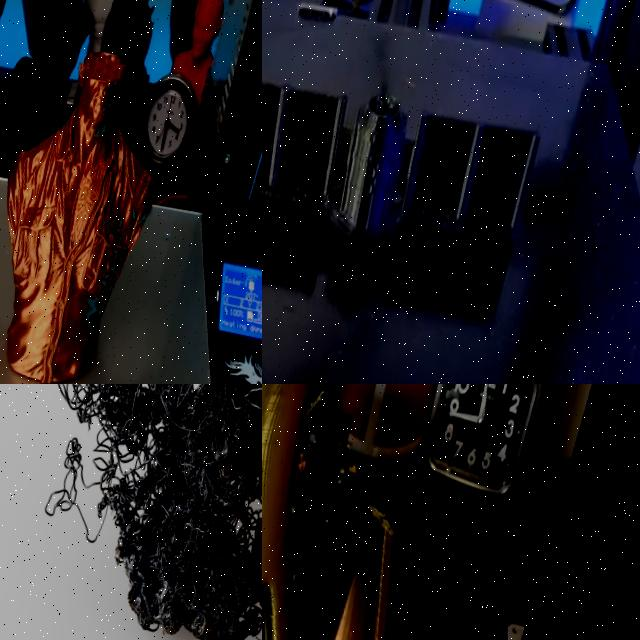spaghetti: (61, 384, 262, 640), (42, 440, 109, 549), (303, 386, 332, 418)
